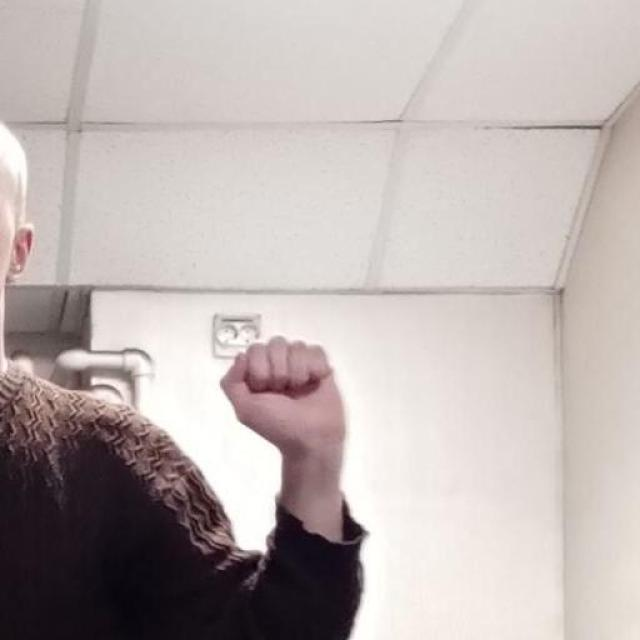hand: (219, 334, 346, 458)
